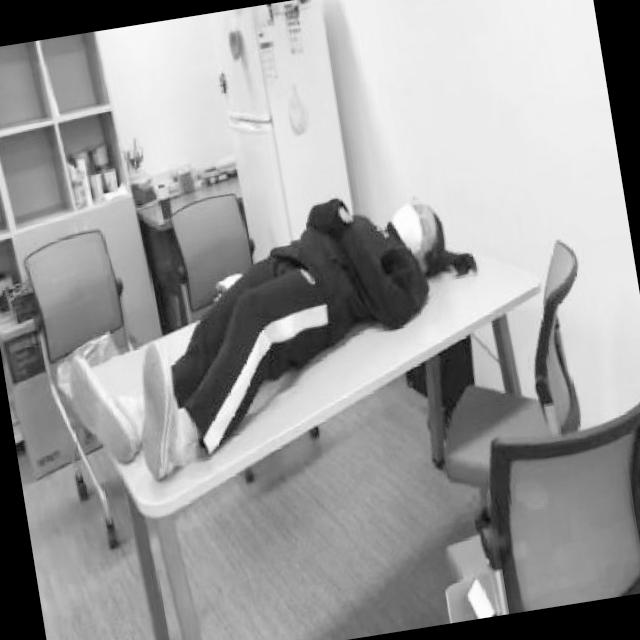person: (44, 184, 479, 495)
